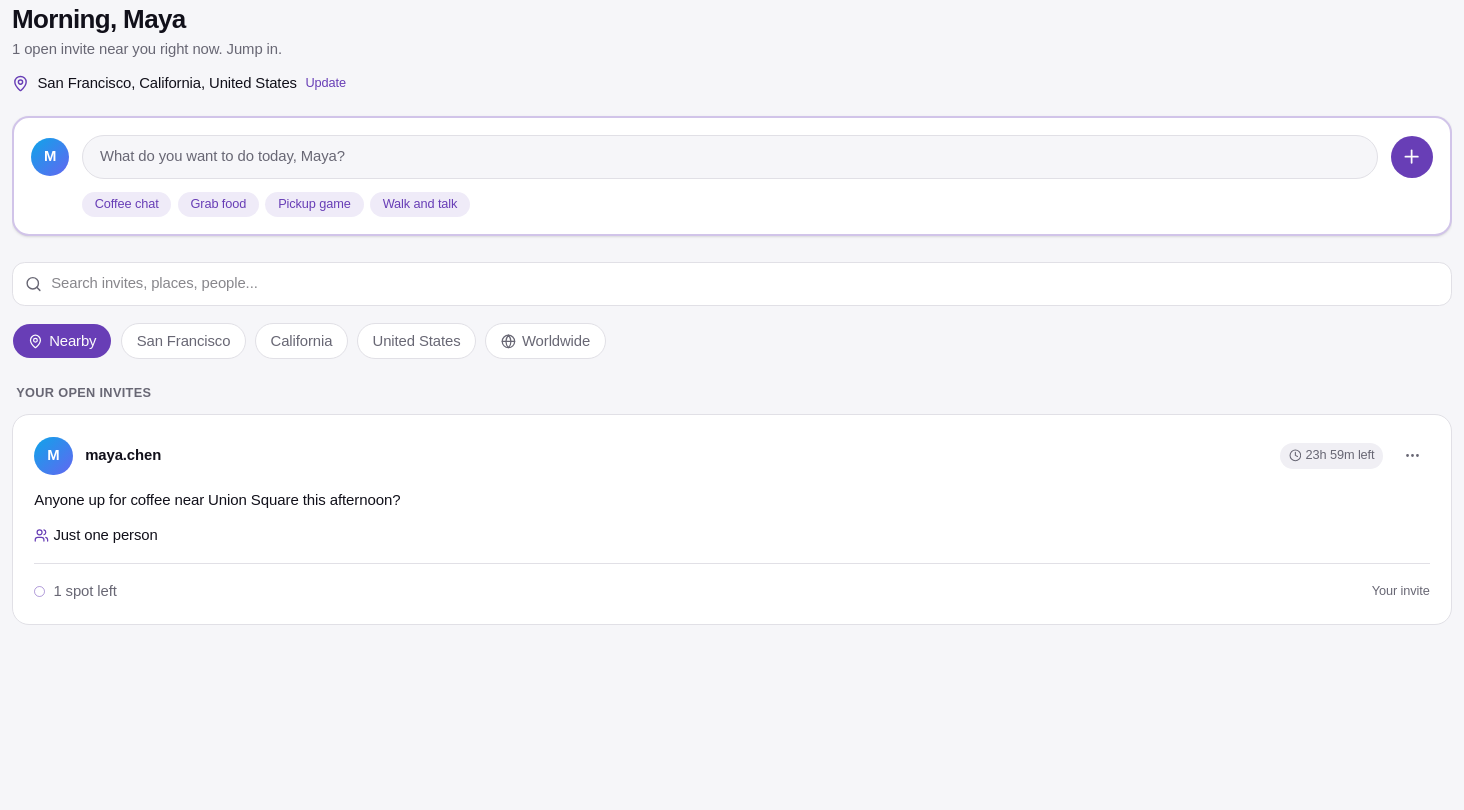
Test: HomePage feed › switches to the worldwide feed
The width and height of the screenshot is (1464, 810).
Expected: the text "Anyone up for coffee near Union Square this afternoon?" is shown, [34,491,400,508]
Click the radio button labelled "Worldwide". click: (545, 341)
box: [485,323,606,359]
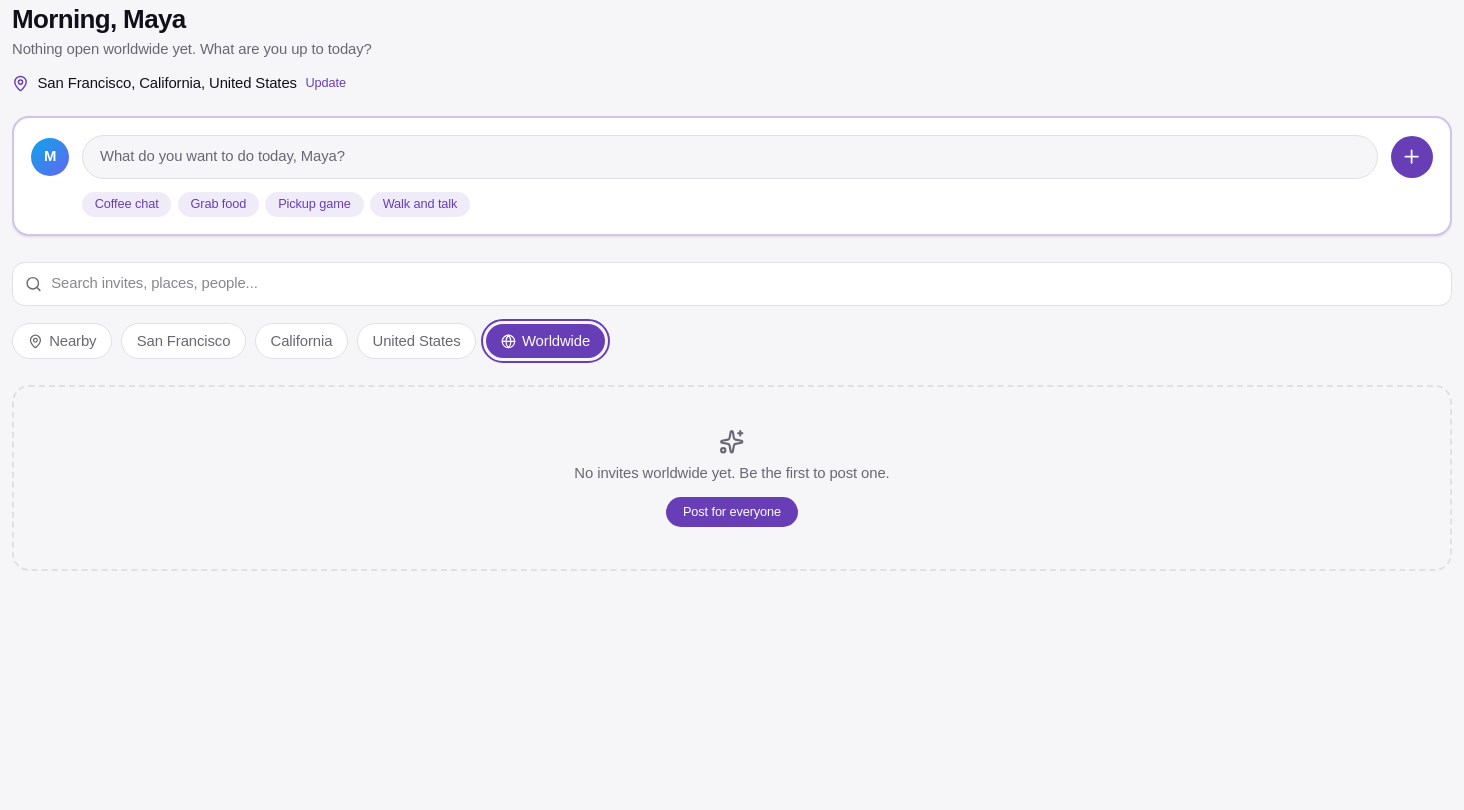
Result: the text "No invites worldwide yet. Be the first to post one." is shown at [574,463,890,484]
